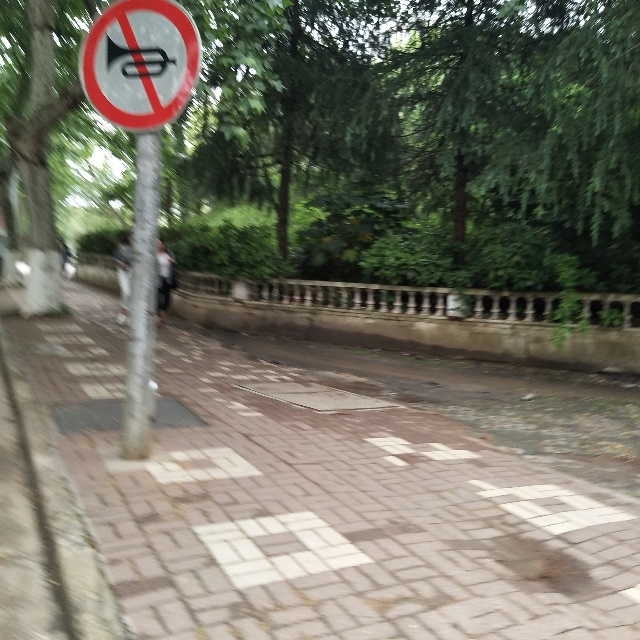nohonk: (80, 1, 202, 132)
